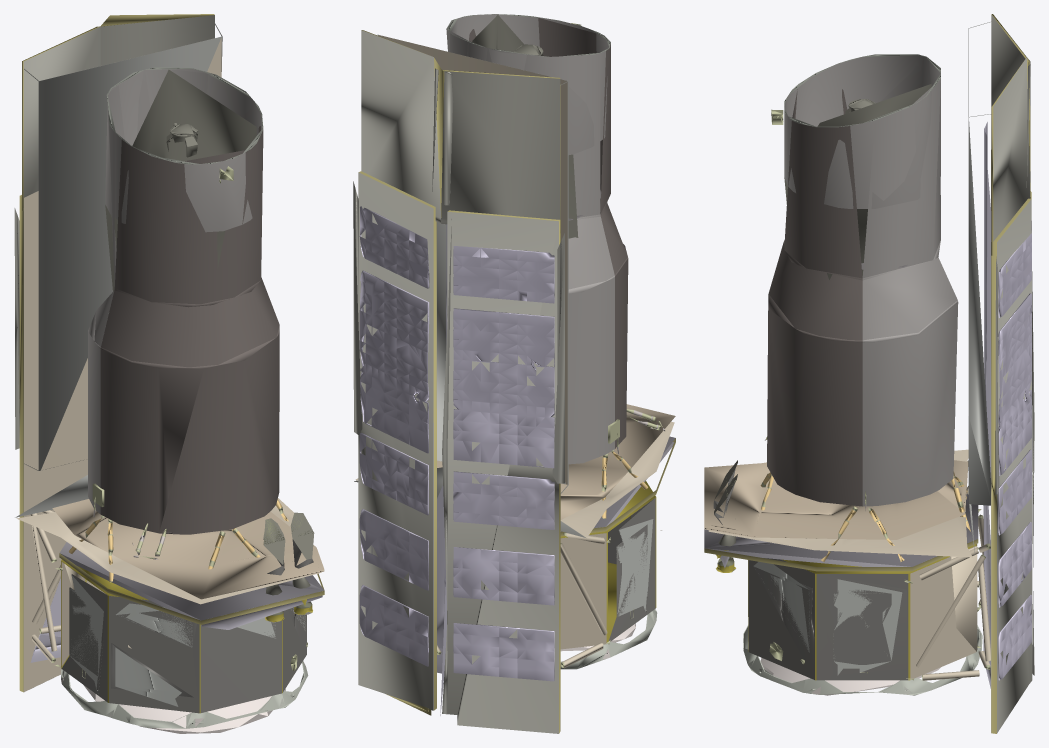
File: space-spitzer.glb
The picture shows the model from 3 angles, left to right: view 1: azimuth 30°, elevation 25°; view 2: azimuth 150°, elevation 25°; view 3: azimuth 270°, elevation 25°; orthographic projection. The views are drawn at different scales.
Visible parts, largest first — view 1: Fake; view 2: Fake; view 3: Fake.
Part boxes in pixels (x1=…): Fake: x1=14, y1=14, x2=324, y2=733; Fake: x1=353, y1=14, x2=675, y2=733; Fake: x1=704, y1=14, x2=1034, y2=733.
Size of the model in its own units: 1.61 by 4.35 by 2.06.
1 material, 1 textured.
